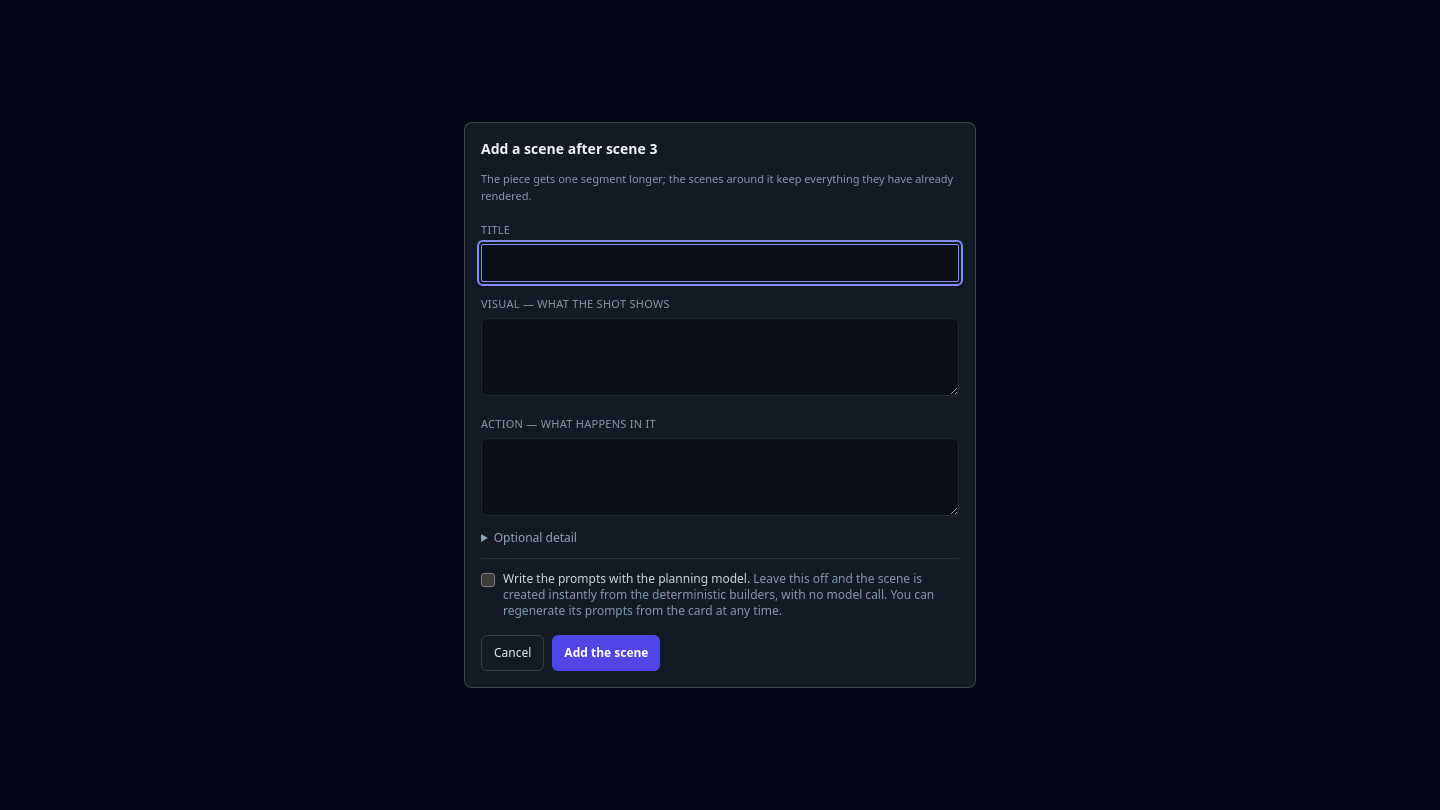
Test case: adding a scene › refuses a card with nothing to render
Click the button "Add the scene": [606, 653] box [552,635,660,671]
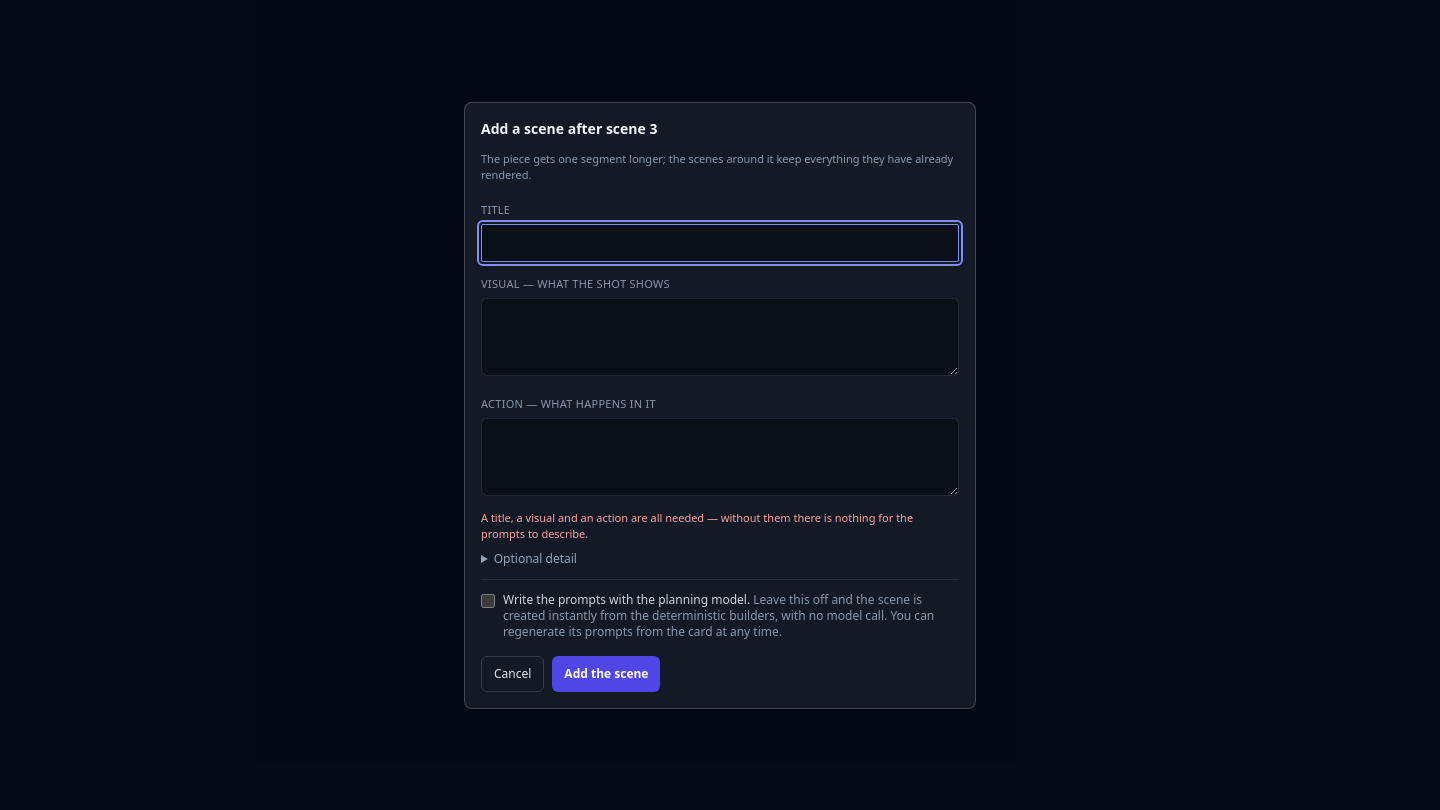
Now the text with test id "insert-missing" is shown, box [481,510,959,542]
